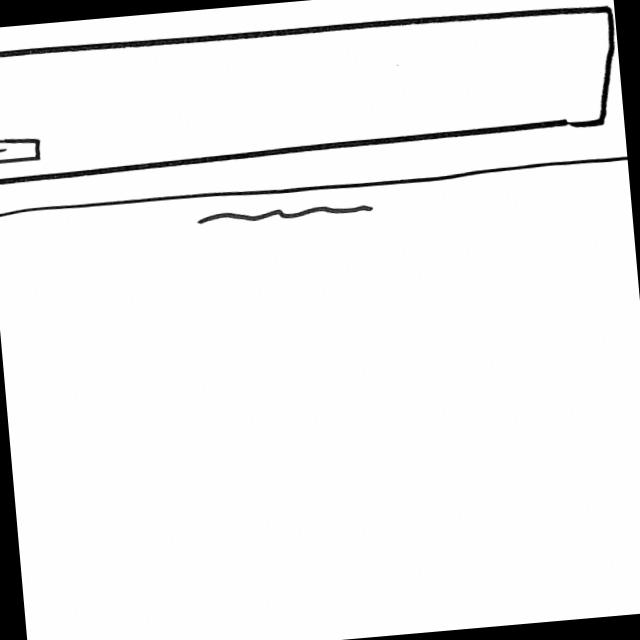container: (1, 1, 625, 186)
icon-button: (1, 134, 46, 168)
text: (194, 198, 381, 234)
